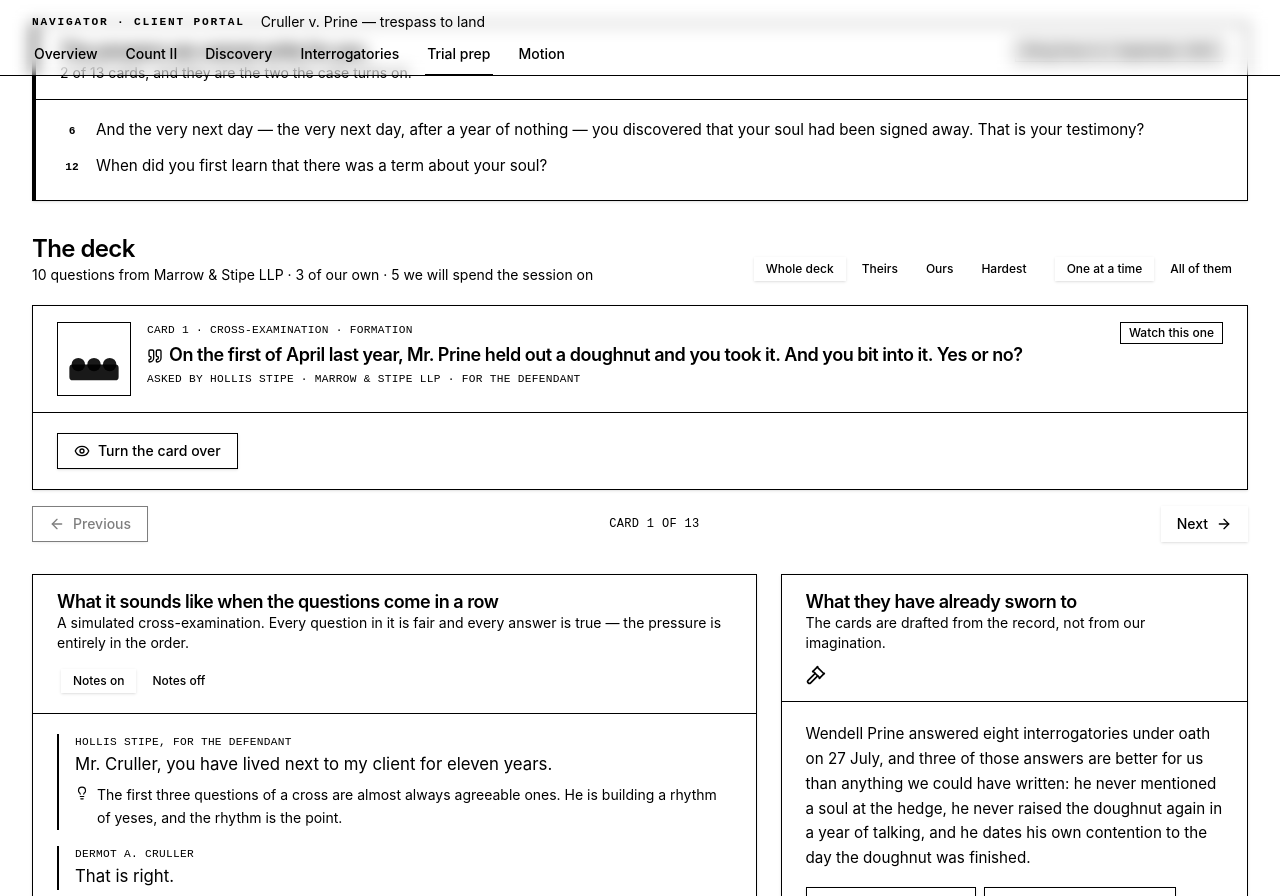
Test: the trial preparation page › shows the answer, the reasoning, and the weaker answer once it is turned over
(page scrolled)
Click the button "Turn the card over".
click(147, 451)  # box [57, 433, 238, 469]
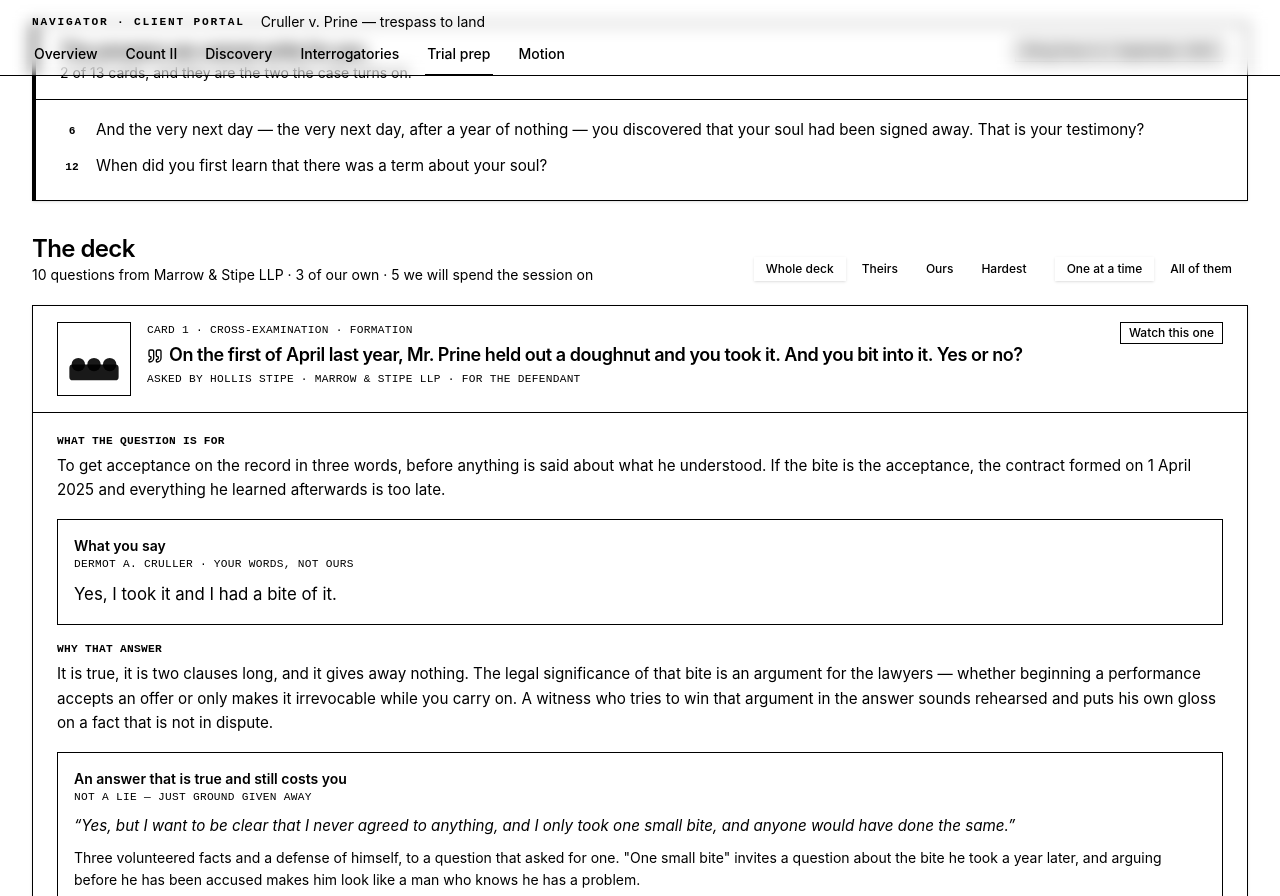
Check: the text "Yes, I took it and I had a bite of it." is shown, box [74, 584, 337, 604]
Check: the text "It is true, it is two clauses long, and it gives away nothing. The legal significance of that bite is an argument for th" is shown, box [57, 664, 1216, 732]
Check: the text "To get acceptance on the record in three words, before anything is said about what he understood. If the bite is the acc" is shown, box [57, 456, 1191, 499]
